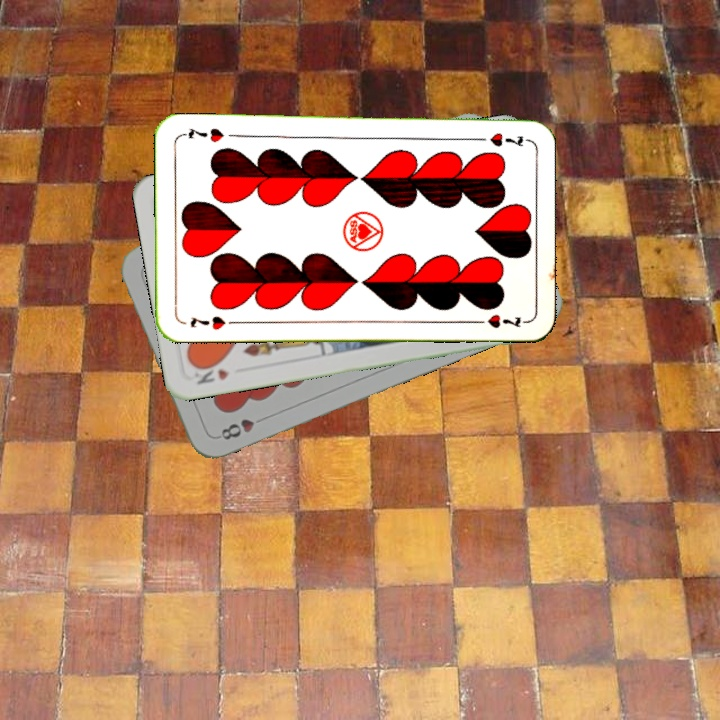H7: (469, 128, 528, 147), (186, 312, 228, 333)
H8: (217, 413, 270, 443)
HK: (189, 358, 232, 388)
